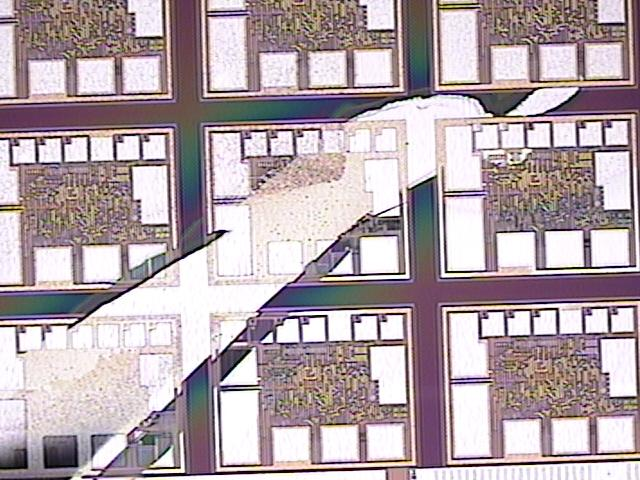COATING BAD: (1, 68, 586, 480)
